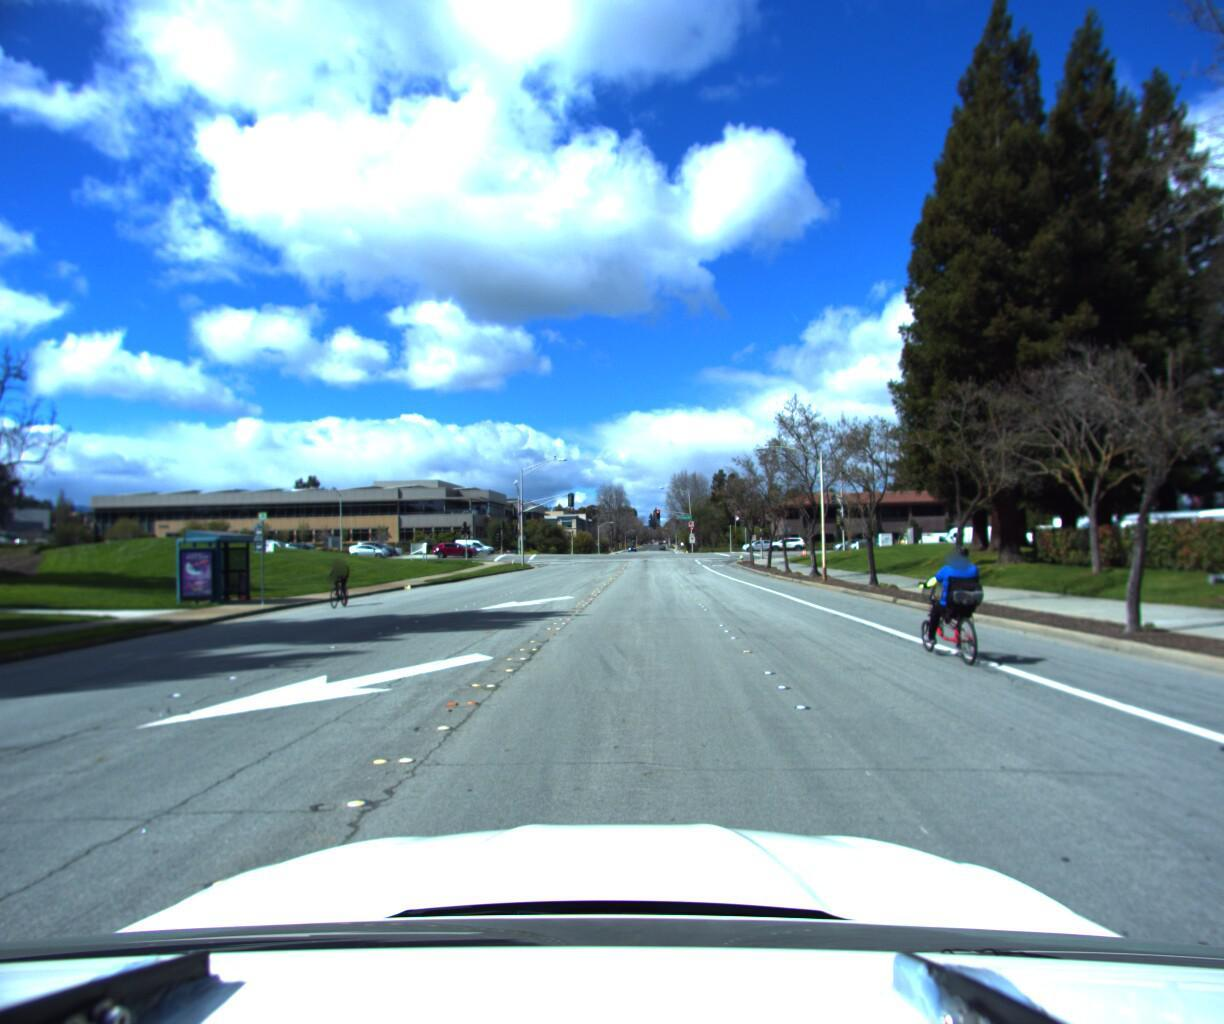bicycle: (898, 539, 1004, 670), (315, 561, 359, 614)
car: (897, 527, 958, 554)
